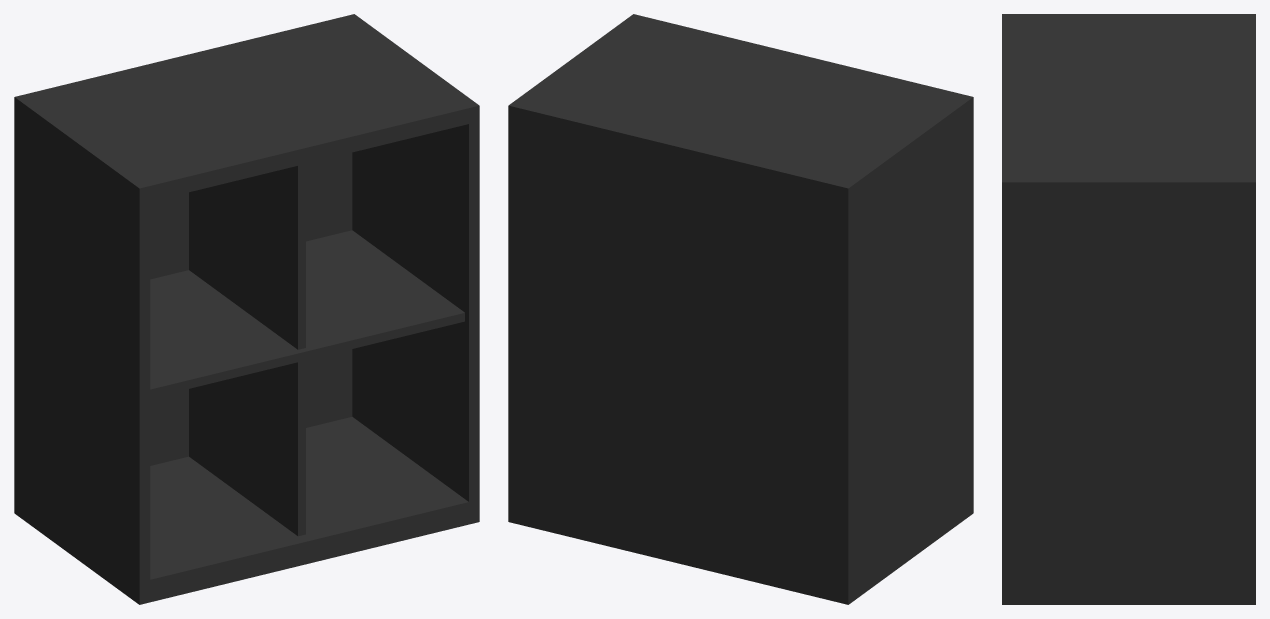
The model's file is Expositor_1x1_C.obj.
3 views of the same model, side by side, from view 1: azimuth 30°, elevation 25°; view 2: azimuth 150°, elevation 25°; view 3: azimuth 270°, elevation 25° (orthographic).
Parts seen in each view (by area): view 1: Expositor_1x1_C; view 2: Expositor_1x1_C; view 3: Expositor_1x1_C.
Part boxes in pixels (<box>): Expositor_1x1_C: <box>14,14,479,604</box>; Expositor_1x1_C: <box>508,14,973,604</box>; Expositor_1x1_C: <box>1002,14,1255,604</box>.
Bounding box in the file's own units: 0.7113 × 0.8324 × 0.4532.
